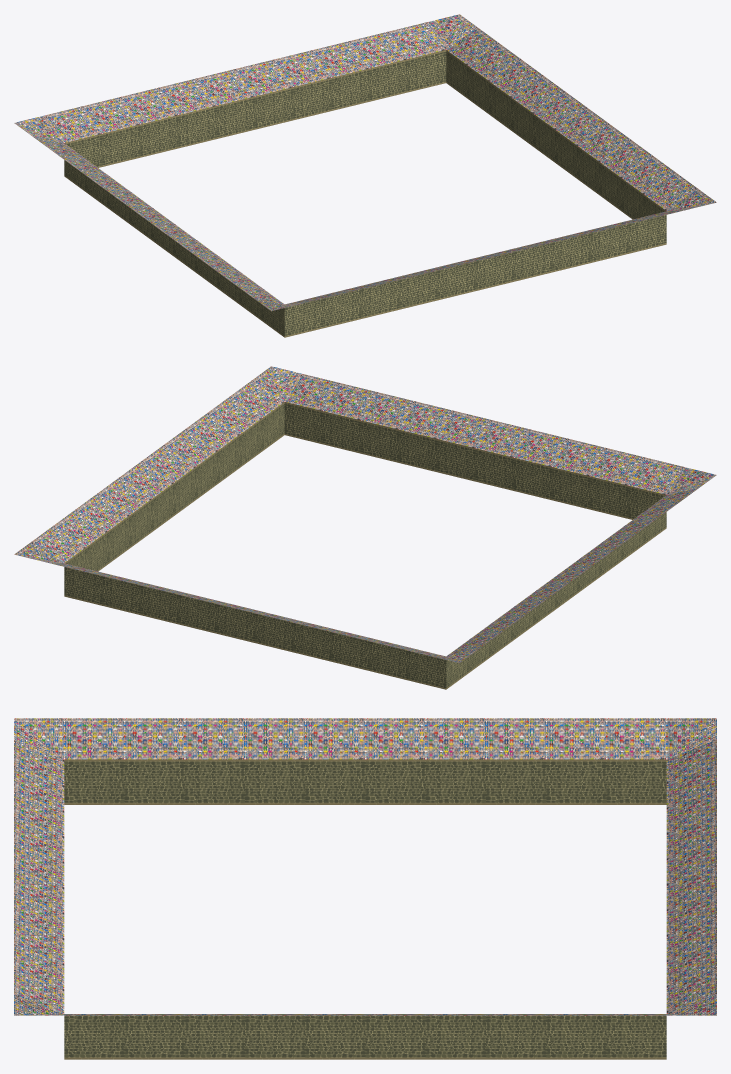
Rendered from Wall.fbx.
3 views of the same model, one above another, from view 1: azimuth 30°, elevation 25°; view 2: azimuth 150°, elevation 25°; view 3: azimuth 270°, elevation 25° (orthographic). The views are drawn at different scales.
Visible parts, largest first — view 1: polySurface1, polySurface2; view 2: polySurface1, polySurface2; view 3: polySurface2, polySurface1.
Part boxes in pixels (box(x1,y1,x2,y2)): polySurface1: box(64, 50, 666, 337); polySurface2: box(14, 14, 716, 311); polySurface1: box(64, 402, 666, 689); polySurface2: box(14, 366, 716, 663); polySurface2: box(14, 718, 716, 1015); polySurface1: box(64, 759, 666, 1059).
Bounding box in the file's own units: 70 × 7.16 × 70.
